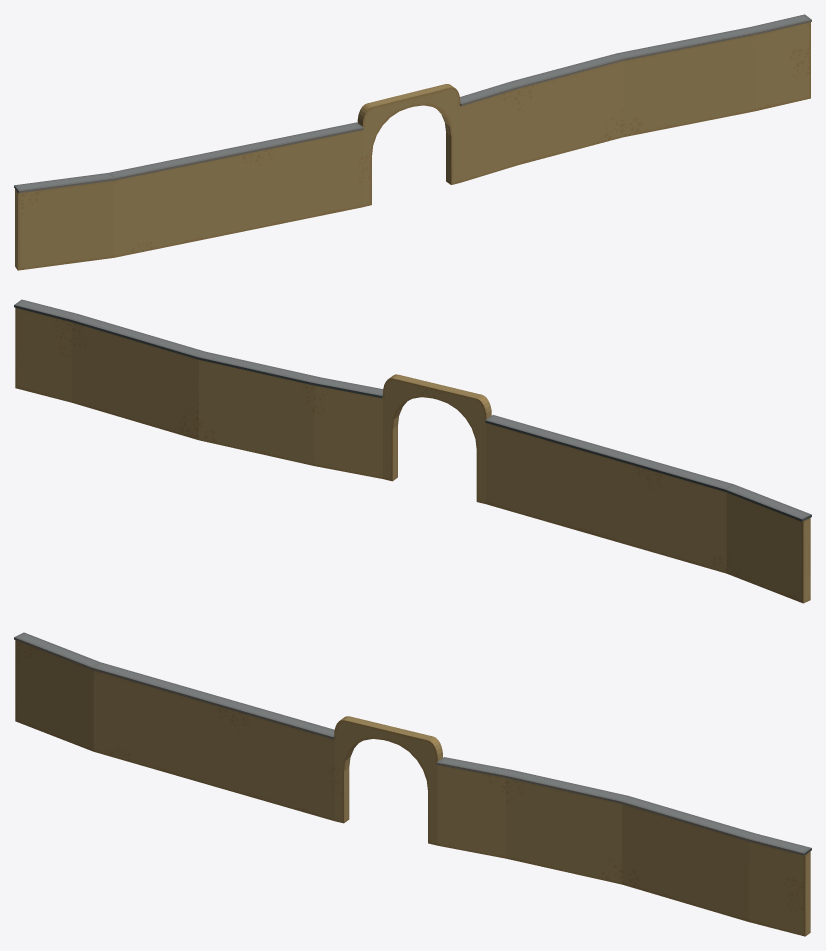
File: zone2Entrance new wall2.fbx
3 renders of one model, top to bottom at view 1: azimuth 30°, elevation 25°; view 2: azimuth 150°, elevation 25°; view 3: azimuth 330°, elevation 25°, orthographic. The views are drawn at different scales.
Visible parts, largest first — view 1: Wall_To_Zone2_LOW, Brick part; view 2: Wall_To_Zone2_LOW, Brick part; view 3: Wall_To_Zone2_LOW, Brick part.
Part boxes in pixels (box(x1,y1,x2,y2)): Wall_To_Zone2_LOW: box(15, 22, 810, 270); Brick part: box(14, 14, 811, 193); Wall_To_Zone2_LOW: box(15, 307, 810, 603); Brick part: box(14, 299, 811, 521); Wall_To_Zone2_LOW: box(15, 640, 810, 936); Brick part: box(14, 632, 811, 855).
Size of the model in its own units: 4130 by 501 by 272.
Materials: 2 (2 with a texture image).
